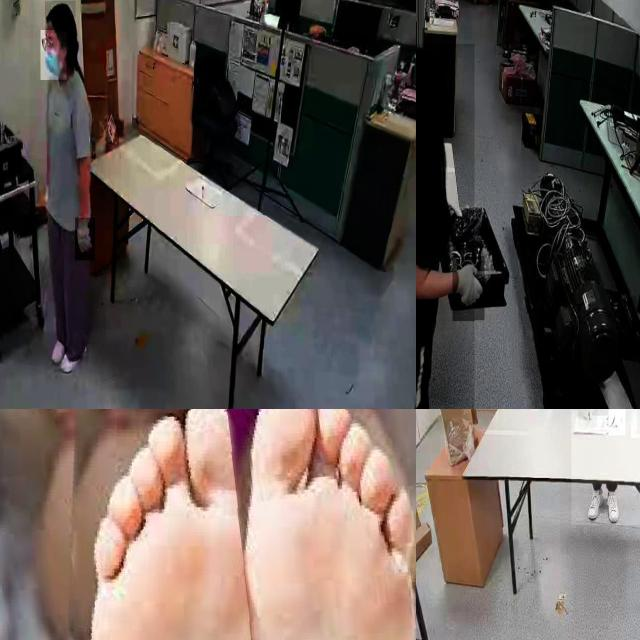Barefoots: (64, 409, 254, 640), (243, 409, 416, 640)
face_mask: (40, 30, 66, 80)
hand_glove: (453, 256, 485, 321), (75, 218, 95, 261), (608, 409, 625, 436), (578, 409, 598, 428)
head_nohelmet: (45, 1, 76, 34), (416, 44, 439, 87)
person: (29, 0, 106, 366), (416, 43, 475, 409), (571, 409, 640, 525)
shoes: (49, 332, 70, 364), (586, 485, 603, 523), (605, 487, 620, 529)
